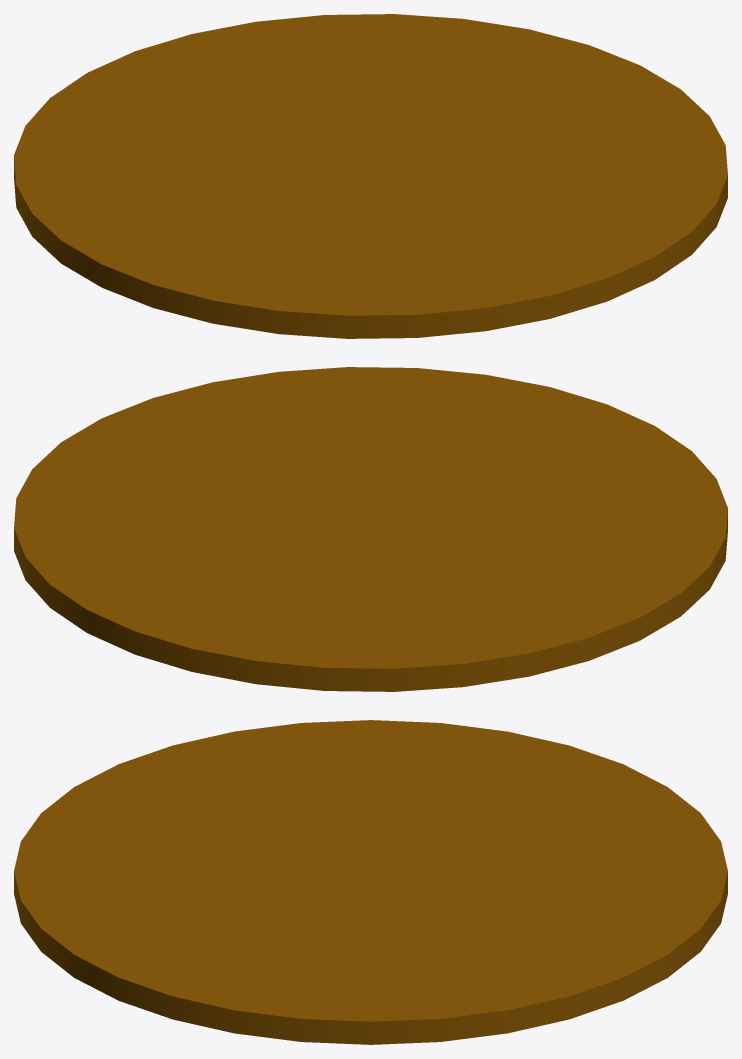
Rendered from Stage.fbx.
The picture shows the model from 3 angles, top to bottom: view 1: azimuth 30°, elevation 25°; view 2: azimuth 150°, elevation 25°; view 3: azimuth 270°, elevation 25°; orthographic projection.
Visible parts, largest first — view 1: Cylinder001; view 2: Cylinder001; view 3: Cylinder001.
Boxes of the visible parts, x1,y1,x2,y2 form: Cylinder001: [14, 14, 727, 338]; Cylinder001: [14, 367, 727, 691]; Cylinder001: [14, 720, 727, 1044].
Bounding box in the file's own units: 1400 × 50 × 1400.
1 material, 1 textured.
